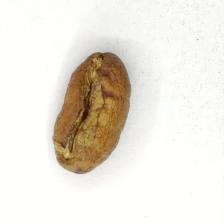NG: (57, 52, 107, 155)
